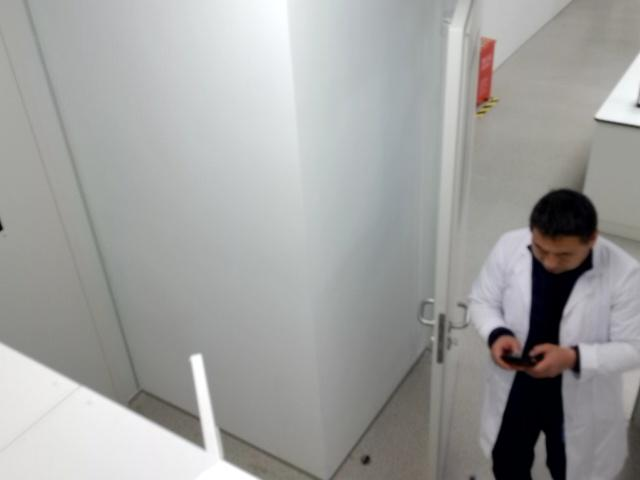Lab_coat: (469, 189, 639, 479)
